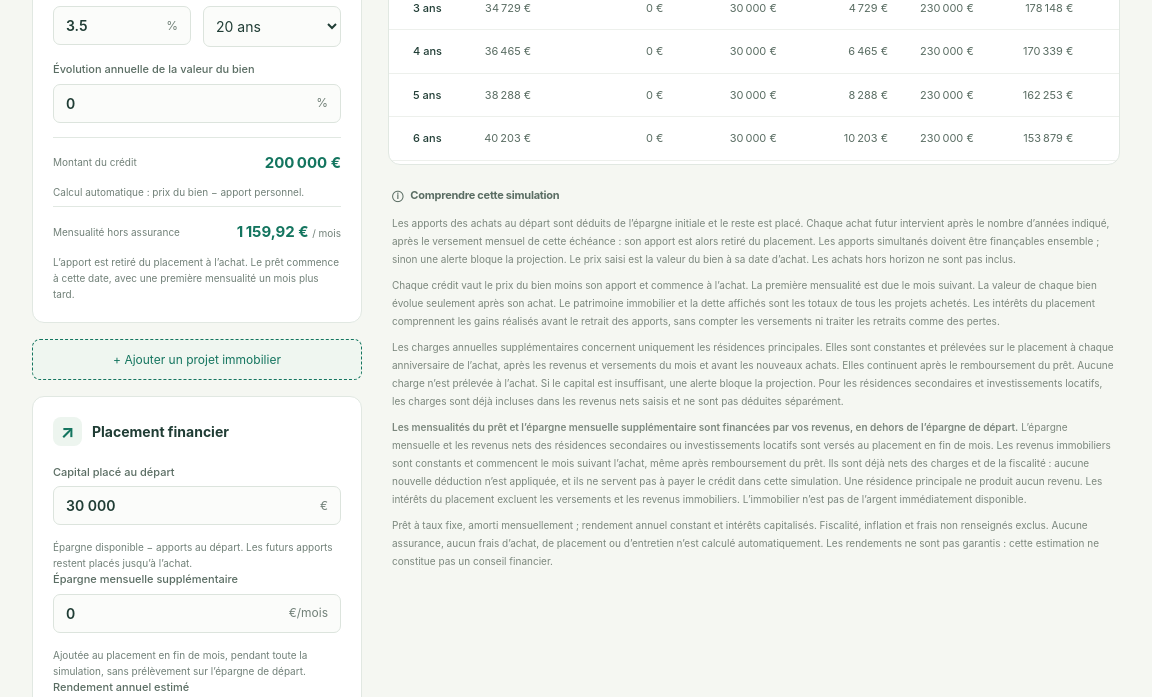
Test: App › adds independent projects, removes them and keeps unique input IDs
This screenshot has width=1152, height=697.
(page scrolled)
Click the button with class "add-project-button".
click(197, 359)  # box [32,339,362,380]
(page scrolled)
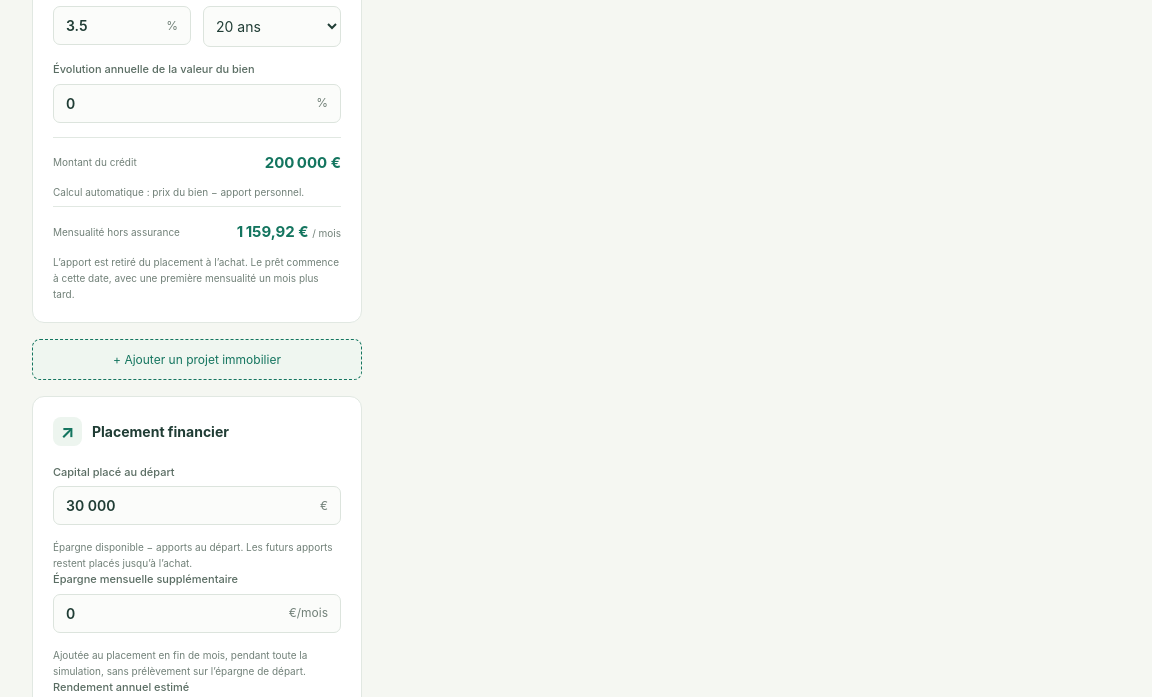
Click the button with class "add-project-button".
click(197, 359)  # box [32,339,362,380]
(page scrolled)
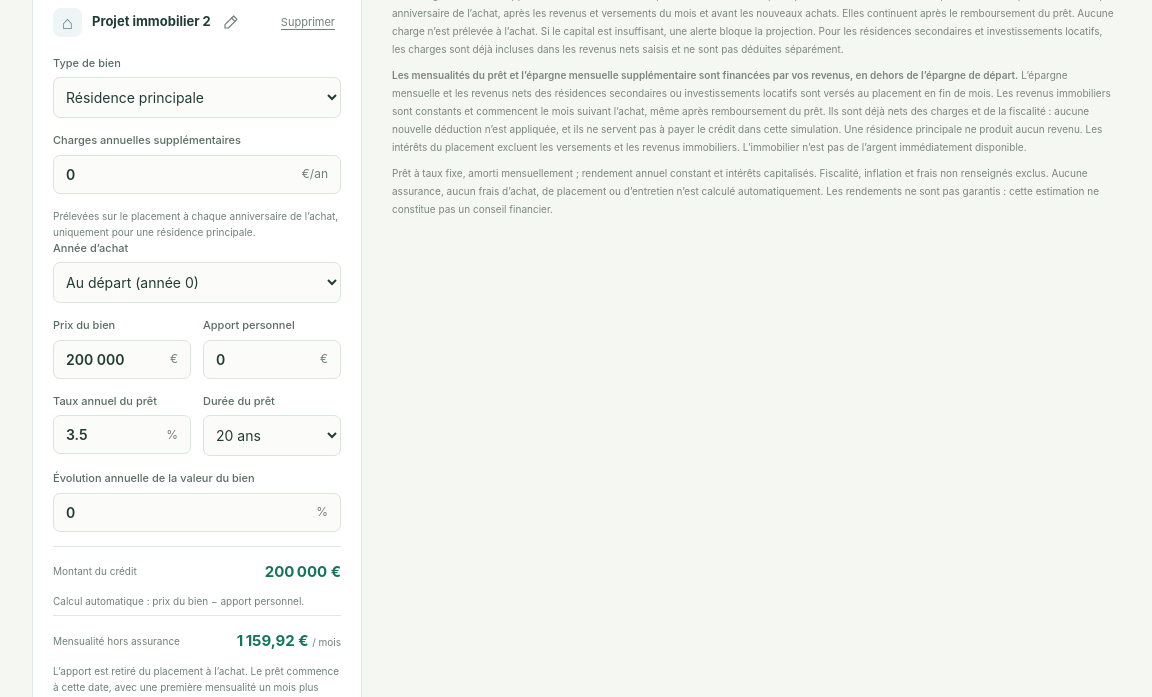
Replace the text in the field labelled "Prix du bien" with "100000" at (112,359), box [54,341,170,378]
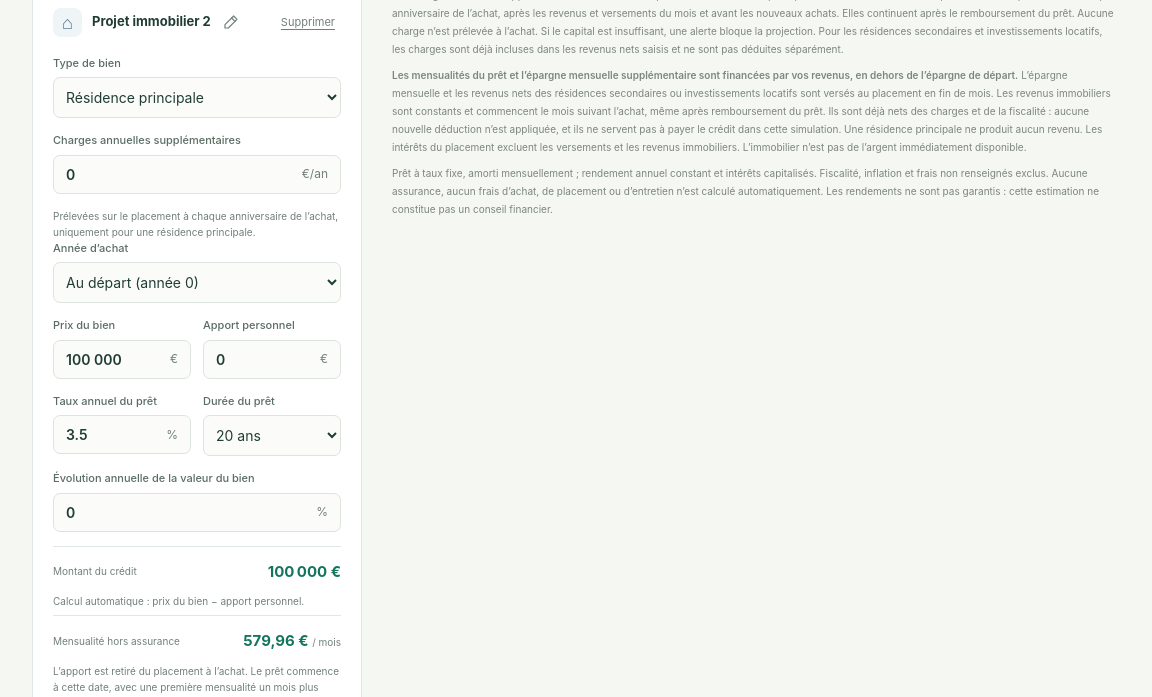
Click the button with aria-label "Supprimer Projet immobilier 2".
click(308, 22)  # box [275,14,341,30]
(page scrolled)
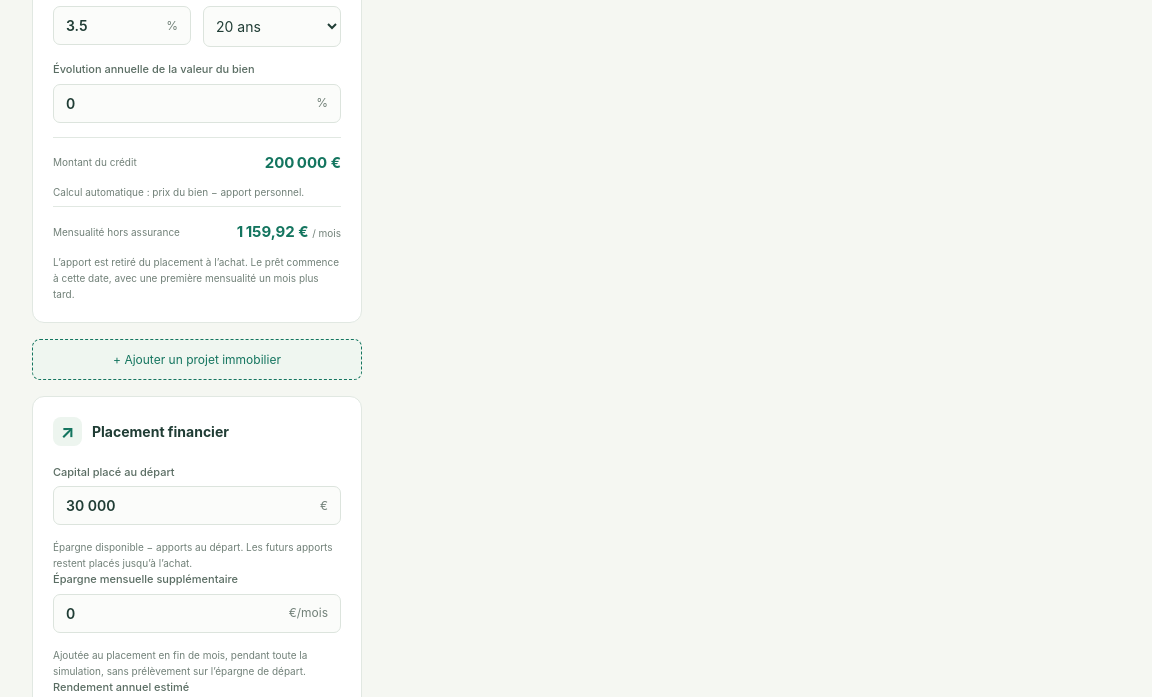
Click the button with class "add-project-button".
click(197, 359)  # box [32,339,362,380]
(page scrolled)
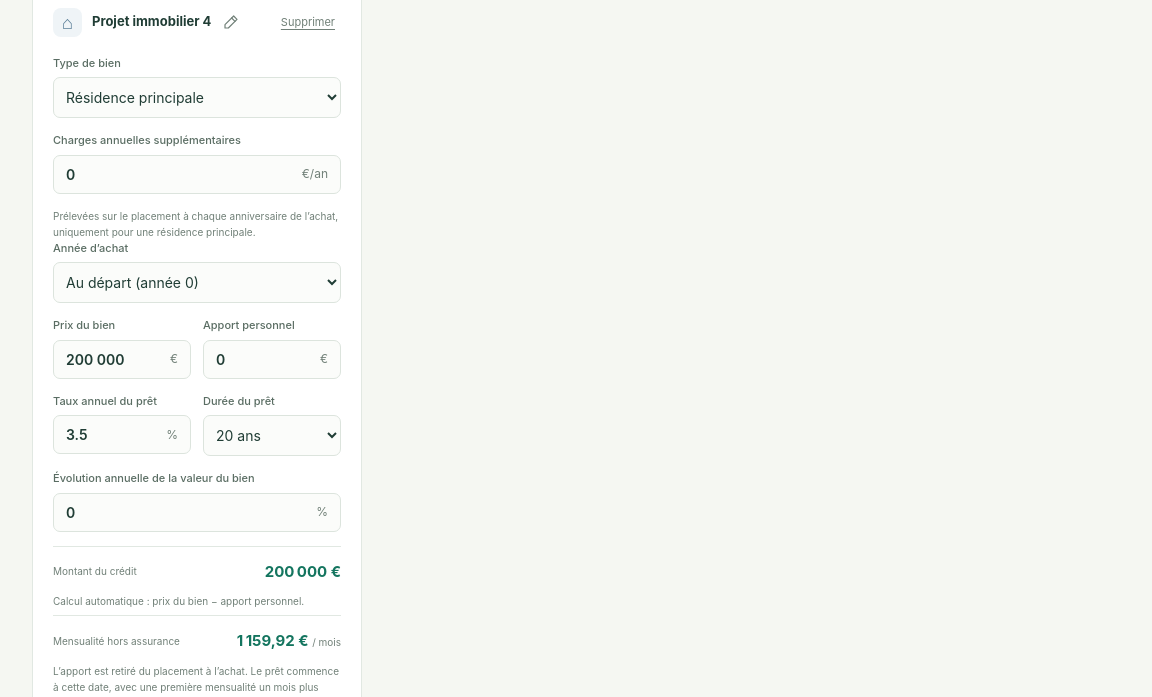
Now the field labelled "Prix du bien" is shown, box [54,341,170,378]
